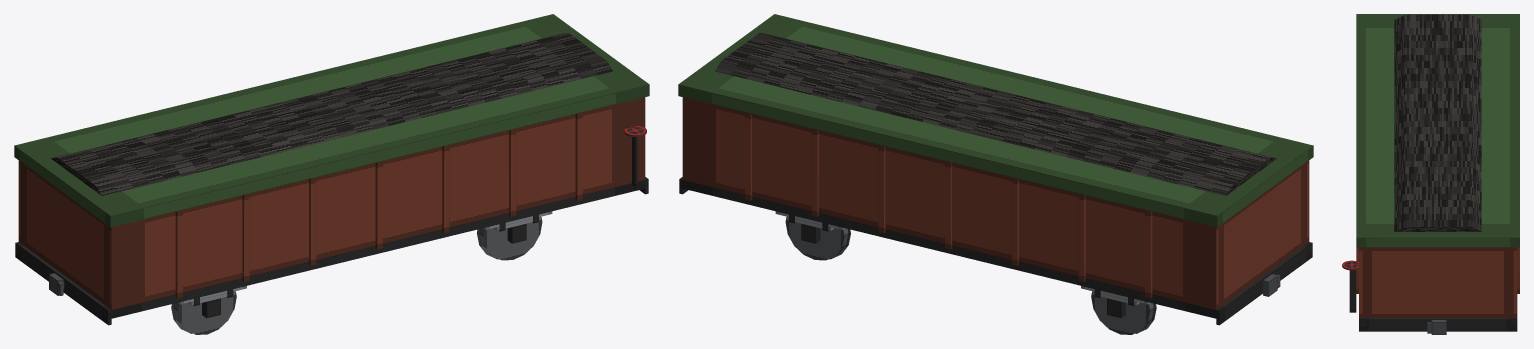
Rendered from gondola.obj.
The picture shows the model from 3 angles, left to right: view 1: azimuth 30°, elevation 25°; view 2: azimuth 150°, elevation 25°; view 3: azimuth 270°, elevation 25°; orthographic projection. The views are drawn at different scales.
Visible parts, largest first — view 1: BODY, TARP_HIDE, CARGO_FILL_100, UNDERFRAME, BOGEY_REAR_WHEEL_1, BOGEY_FRONT_WHEEL_1, SPRINGS; view 2: BODY, TARP_HIDE, CARGO_FILL_100, UNDERFRAME, BOGEY_REAR_WHEEL_1, BOGEY_FRONT_WHEEL_1, SPRINGS; view 3: TARP_HIDE, CARGO_FILL_100, BODY, UNDERFRAME, HANDBRAKE_COLUMN, COUPLED_REAR_2, WIDGET_1_HANDWHEEL.
Boxes of the visible parts, x1=… form: BODY: x1=18, y1=97, x2=645, y2=309; TARP_HIDE: x1=14, y1=14, x2=649, y2=227; CARGO_FILL_100: x1=51, y1=32, x2=612, y2=195; UNDERFRAME: x1=15, y1=177, x2=648, y2=325; BOGEY_REAR_WHEEL_1: x1=477, y1=217, x2=542, y2=260; BOGEY_FRONT_WHEEL_1: x1=171, y1=291, x2=236, y2=334; SPRINGS: x1=178, y1=211, x2=552, y2=305; BODY: x1=682, y1=97, x2=1309, y2=309; TARP_HIDE: x1=678, y1=14, x2=1313, y2=227; CARGO_FILL_100: x1=715, y1=32, x2=1276, y2=195; UNDERFRAME: x1=679, y1=177, x2=1312, y2=325; BOGEY_REAR_WHEEL_1: x1=785, y1=217, x2=850, y2=260; BOGEY_FRONT_WHEEL_1: x1=1091, y1=291, x2=1156, y2=334; SPRINGS: x1=775, y1=211, x2=1149, y2=305; TARP_HIDE: x1=1356, y1=14, x2=1519, y2=247; CARGO_FILL_100: x1=1394, y1=14, x2=1481, y2=231; BODY: x1=1356, y1=247, x2=1519, y2=317; UNDERFRAME: x1=1359, y1=318, x2=1517, y2=331; HANDBRAKE_COLUMN: x1=1349, y1=270, x2=1356, y2=312; COUPLED_REAR_2: x1=1427, y1=320, x2=1446, y2=334; WIDGET_1_HANDWHEEL: x1=1342, y1=260, x2=1358, y2=270.
Size of what is drawn, in the model's own units: 10 by 2.91 by 3.26.
Materials: 9 (9 with a texture image).
